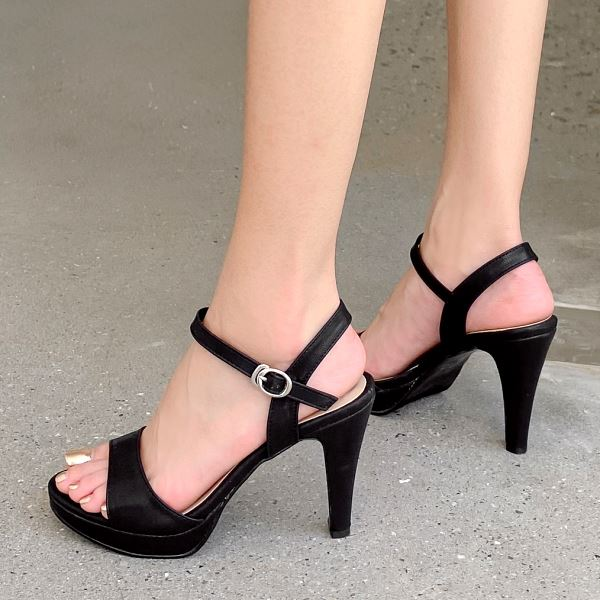woman_sun_shoe: (38, 221, 568, 567)
